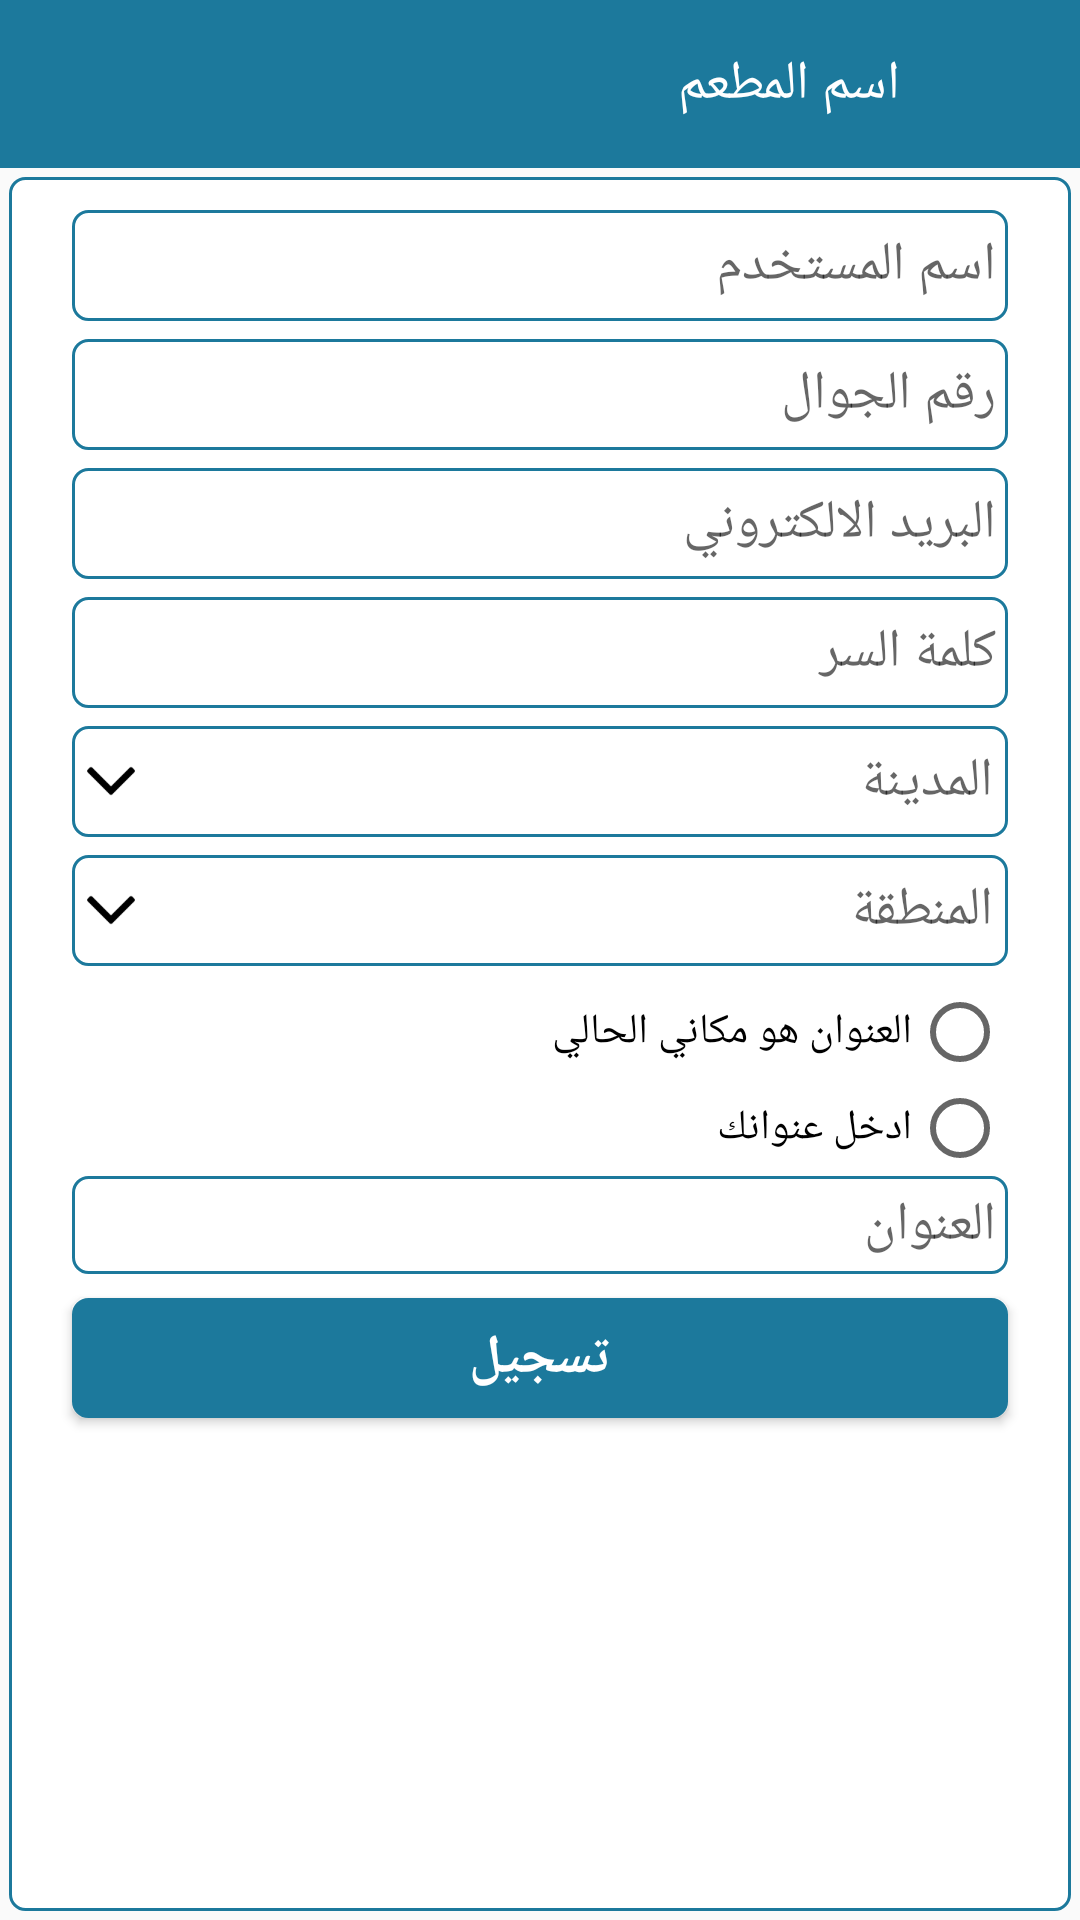

Icon click points for this 1080px x 1920px phone screenshot, format [x,y]:
arrow down: [111,781], [111,910]
